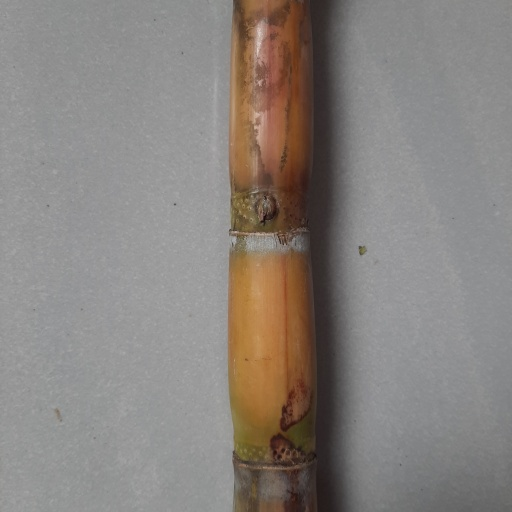Bud: (256, 190, 279, 227)
